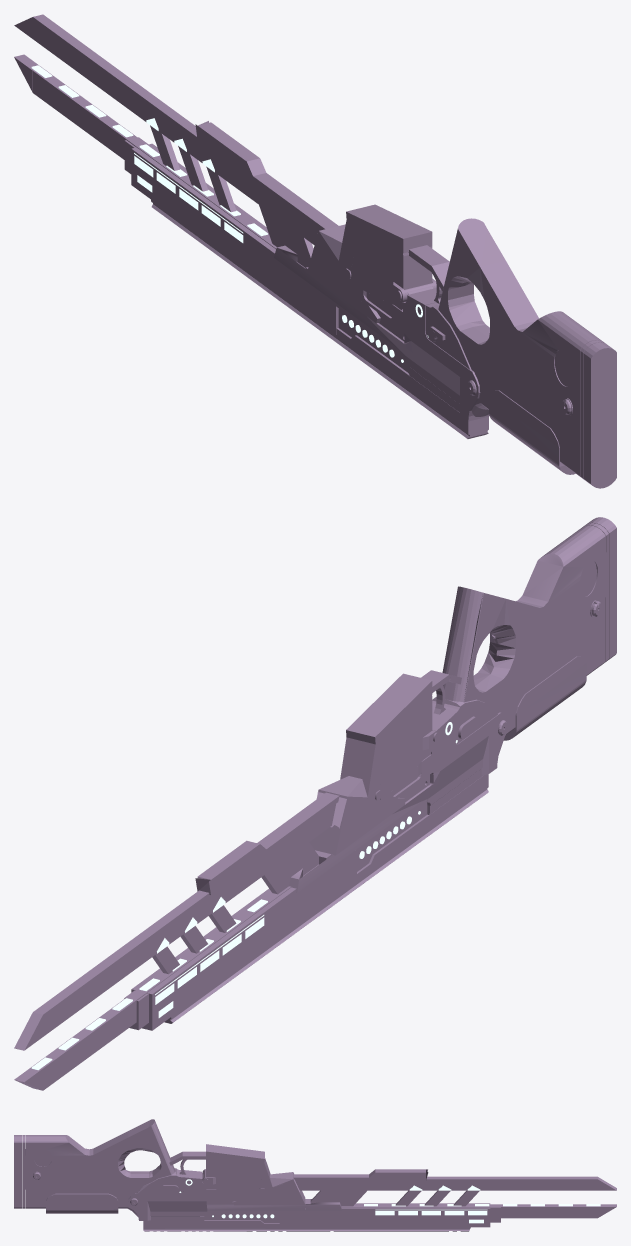
3 views of the same model, one above another, from view 1: azimuth 30°, elevation 25°; view 2: azimuth 150°, elevation 25°; view 3: azimuth 270°, elevation 25° (orthographic). The views are drawn at different scales.
Visible parts, largest first — view 1: Object_2, Object_3; view 2: Object_2, Object_3; view 3: Object_2, Object_3.
Part boxes in pixels (x1,y1,x2,y2): Object_2: (14, 14, 616, 488); Object_3: (31, 65, 428, 362); Object_2: (14, 517, 616, 1090); Object_3: (31, 722, 457, 1070); Object_2: (14, 1119, 616, 1231); Object_3: (179, 1179, 600, 1223).
Bounding box in the file's own units: 0.0495 × 0.259 × 1.3.
